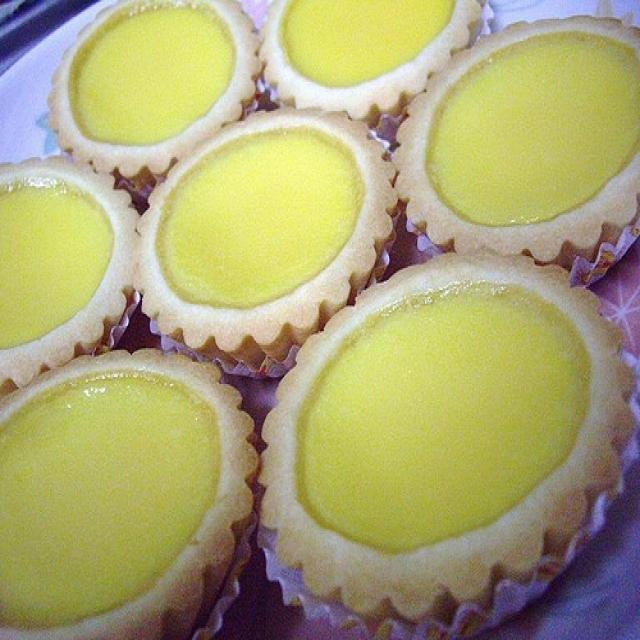炸货点心: (13, 21, 626, 621)
蛋糕甜品: (13, 21, 626, 621)
